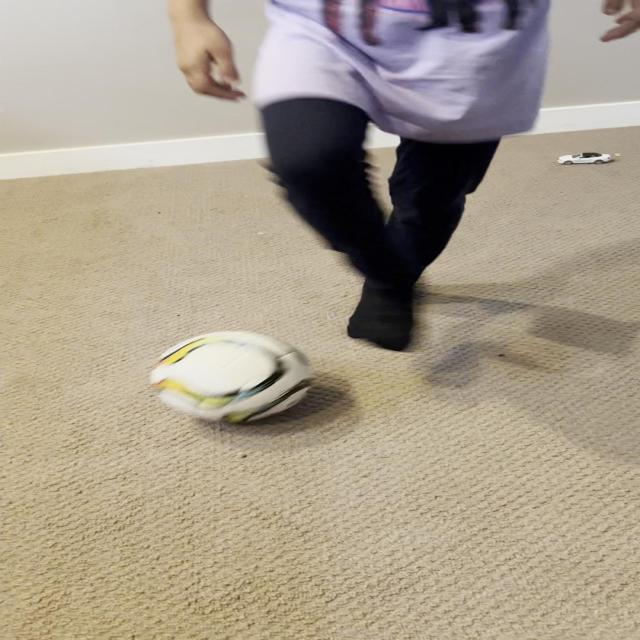Soccer Ball: (151, 329, 320, 422)
